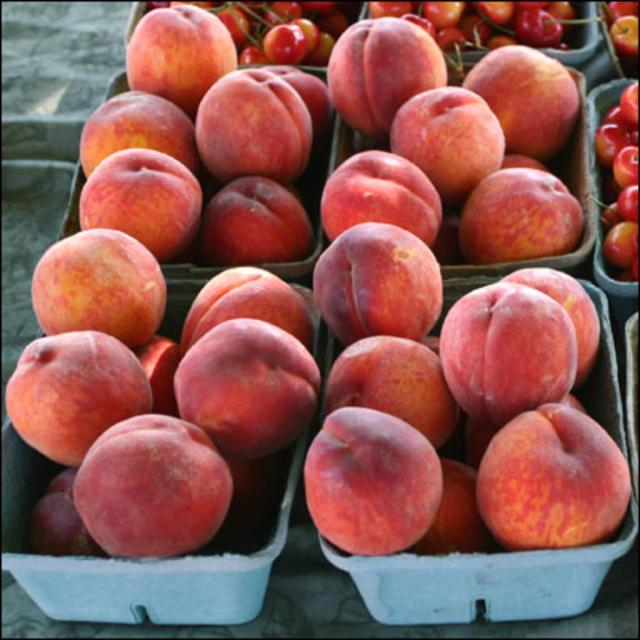Peach: (6, 5, 634, 563), (68, 411, 238, 560)
